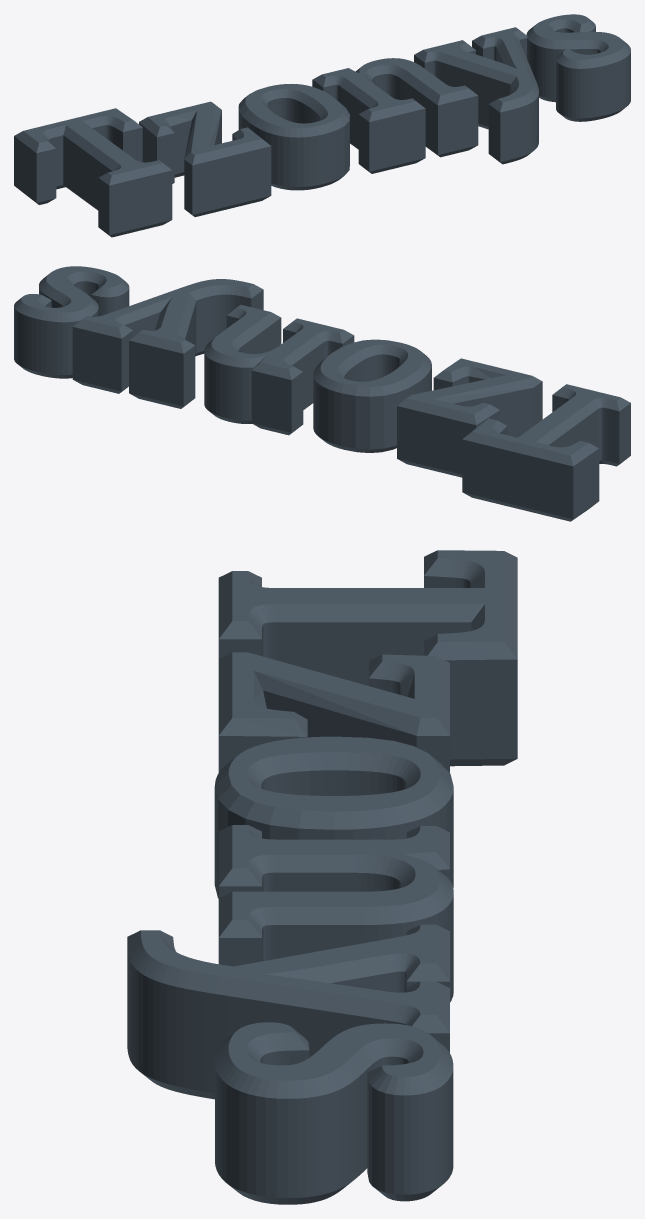
Rendered from name_tzonys.glb.
3 renders of one model, top to bottom at view 1: azimuth 30°, elevation 25°; view 2: azimuth 150°, elevation 25°; view 3: azimuth 270°, elevation 25°, orthographic. The views are drawn at different scales.
Visible parts, largest first — view 1: Mesh_Mesh_head_geo.001_lambert2SG.001; view 2: Mesh_Mesh_head_geo.001_lambert2SG.001; view 3: Mesh_Mesh_head_geo.001_lambert2SG.001.
Part boxes in pixels (x1,y1,x2,y2): Mesh_Mesh_head_geo.001_lambert2SG.001: [14, 14, 630, 237]; Mesh_Mesh_head_geo.001_lambert2SG.001: [14, 266, 630, 521]; Mesh_Mesh_head_geo.001_lambert2SG.001: [127, 550, 517, 1204].
Size of the model in its own units: 0.0937 by 0.01 by 0.0285.
